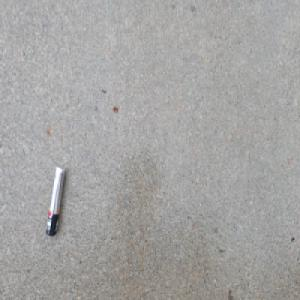Battery: (45, 164, 66, 239)
